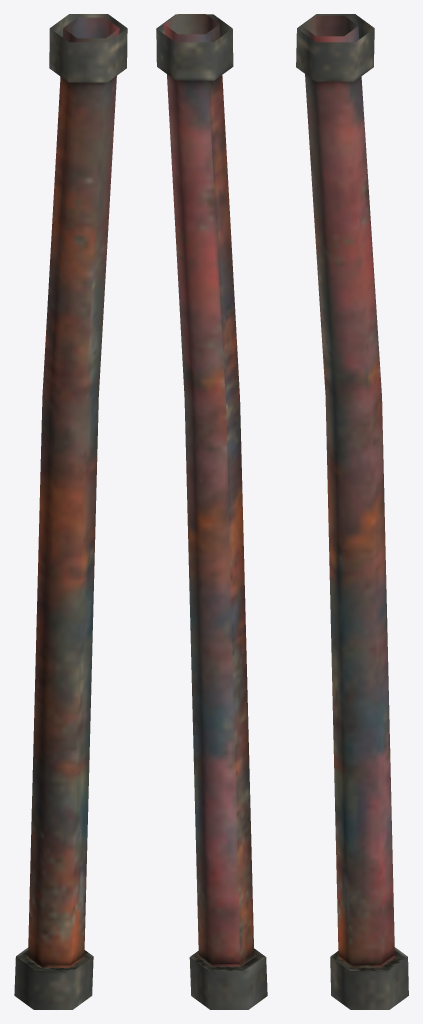
File: MeterBottomPipe.FBX
The picture shows the model from 3 angles, left to right: view 1: azimuth 30°, elevation 25°; view 2: azimuth 210°, elevation 25°; view 3: azimuth 270°, elevation 25°; orthographic projection.
Visible parts, largest first — view 1: Pipe_03; view 2: Pipe_03; view 3: Pipe_03.
Boxes of the visible parts, x1,y1,x2,y2 form: Pipe_03: (14, 14, 127, 1009); Pipe_03: (156, 14, 267, 1009); Pipe_03: (296, 14, 408, 1009).
Bounding box in the file's own units: 6.54 × 79.69 × 8.33.
